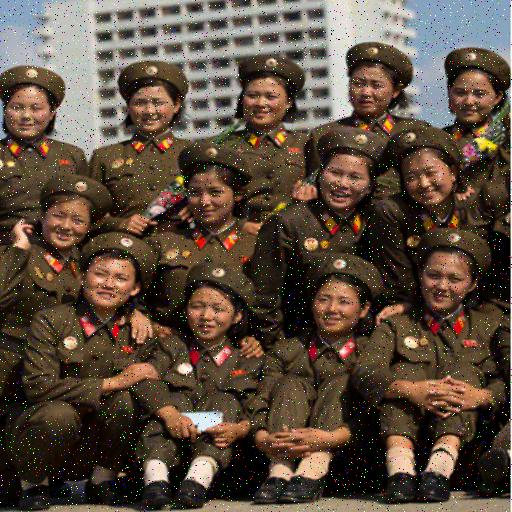north army: (17, 49, 512, 481)
